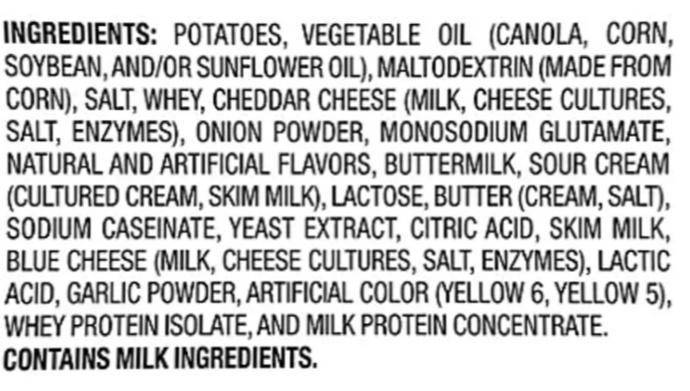ingredients: (1, 15, 683, 374)
